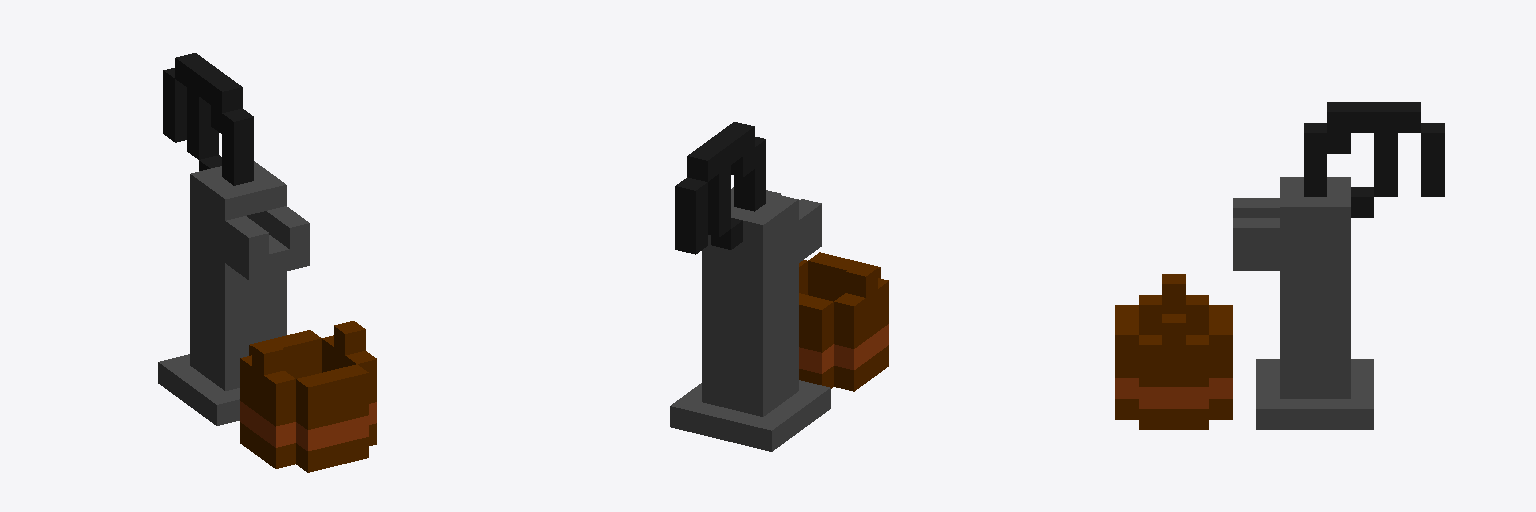
The picture shows the model from 3 angles: view 1: azimuth 30°, elevation 25°; view 2: azimuth 150°, elevation 25°; view 3: azimuth 270°, elevation 25°; orthographic projection.
Visible parts, largest first — view 1: object 1; view 2: object 1; view 3: object 1.
Part boxes in pixels (x1,y1,x2,y2): object 1: (158, 53, 376, 472); object 1: (670, 122, 888, 451); object 1: (1115, 102, 1444, 429).
Size of the model in its own units: 0.5 by 1.4 by 1.4.
Materials: 1 (1 with a texture image).